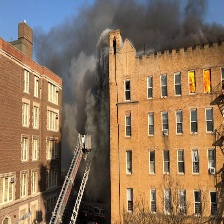smoke: (55, 3, 112, 190), (39, 1, 220, 39)
